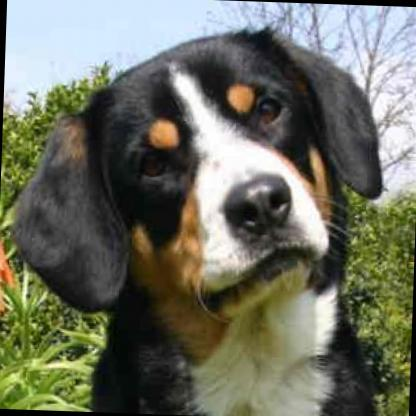EntleBucher: (2, 13, 404, 416)
